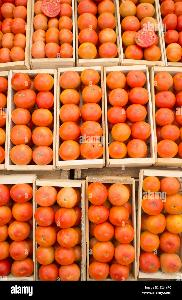tomato: (106, 68, 158, 163), (57, 68, 107, 163), (36, 180, 84, 278), (7, 69, 55, 167), (88, 184, 138, 278), (142, 172, 182, 278), (1, 181, 34, 279), (150, 68, 182, 162), (116, 0, 162, 64), (30, 0, 77, 62), (74, 1, 120, 64), (0, 0, 26, 64), (159, 0, 182, 63)
